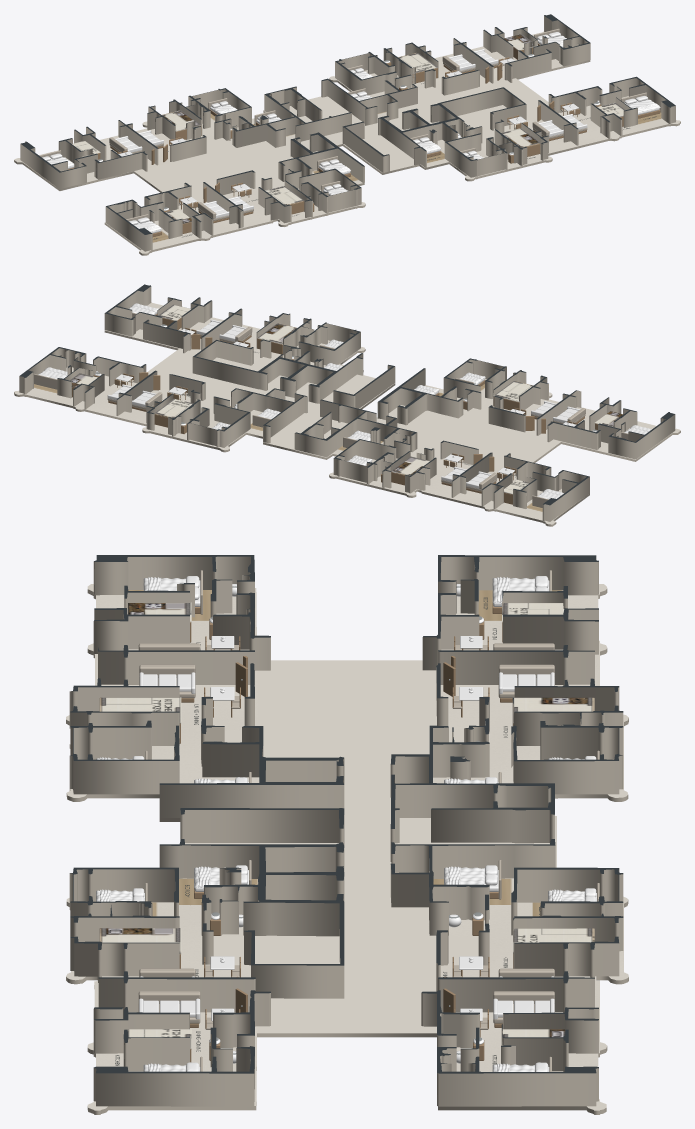
The model's file is opal-group.glb.
3 renders of one model, top to bottom at view 1: azimuth 30°, elevation 25°; view 2: azimuth 150°, elevation 25°; view 3: azimuth 270°, elevation 25°, orthographic. The views are drawn at different scales.
Visible parts, largest first — view 1: Partition walls, Apartment floor, Stone worktop.005, Stone worktop.002, Stone worktop.006, Stone worktop.001; view 2: Partition walls, Apartment floor, Stone worktop.005, Stone worktop.006, Stone worktop.002, Stone worktop.001; view 3: Partition walls, Apartment floor, Stone worktop.006, Stone worktop.005, Stone worktop.002, Stone worktop.001.
Boxes of the visible parts, x1,y1,x2,y2 form: Partition walls: (20,14,675,251); Apartment floor: (14,31,680,255); Stone worktop.005: (501,128,540,147); Stone worktop.002: (398,52,437,73); Stone worktop.006: (265,186,304,205); Stone worktop.001: (162,110,201,131); Partition walls: (19,284,675,521); Apartment floor: (14,302,680,526); Stone worktop.005: (257,323,296,344); Stone worktop.006: (493,381,533,402); Stone worktop.002: (155,398,193,417); Stone worktop.001: (391,456,429,475); Partition walls: (69,555,623,1106); Apartment floor: (66,584,628,1114); Stone worktop.006: (99,697,181,723); Stone worktop.005: (99,928,181,954); Stone worktop.002: (513,928,594,954); Stone worktop.001: (513,697,594,723).
Size of the model in its own units: 43.71 by 1.44 by 19.74.
12 materials, 2 textured.
